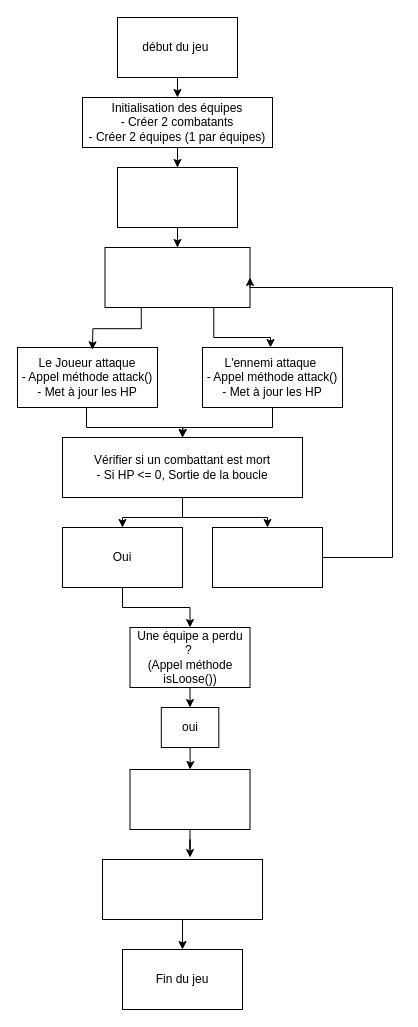
Some shapes in this 418 by 1027 pixel diagram are drawn without their labels. The centre of each missing label's shape, as x and y in pixels:
"Afficher l'equipe gagnante (Appel getWinnerTeam())" belongs at point (182, 889).
"Ajouter un combattant par équipe" belongs at point (177, 197).
"debut de la boucle Tant qu'aucune equipe n'a pas encore perdu" belongs at point (177, 277).
"Fin de la boucle" belongs at point (189, 799).
"Non" belongs at point (267, 557).
